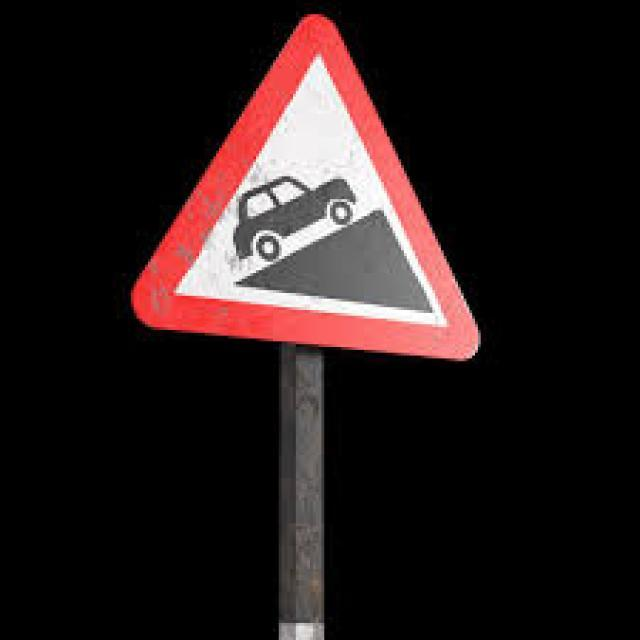steep ascent: (127, 20, 486, 366)
